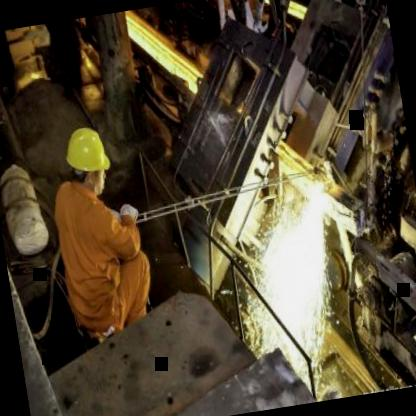helmet: (57, 116, 118, 204)
